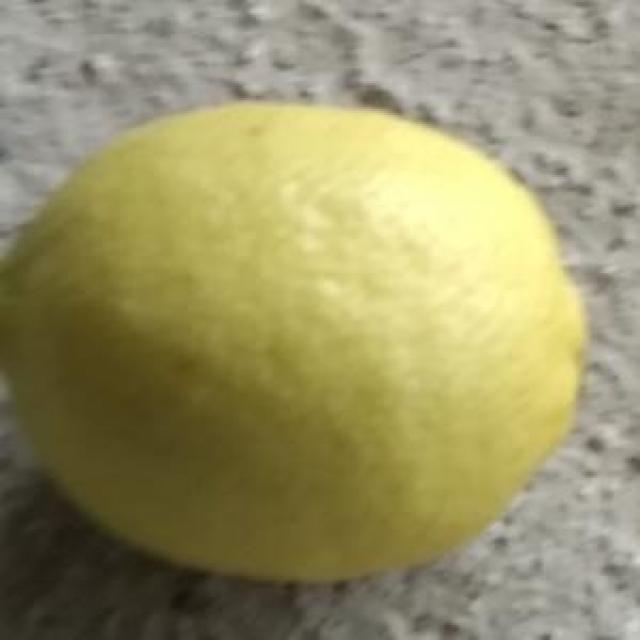lemon: (11, 100, 586, 589)
